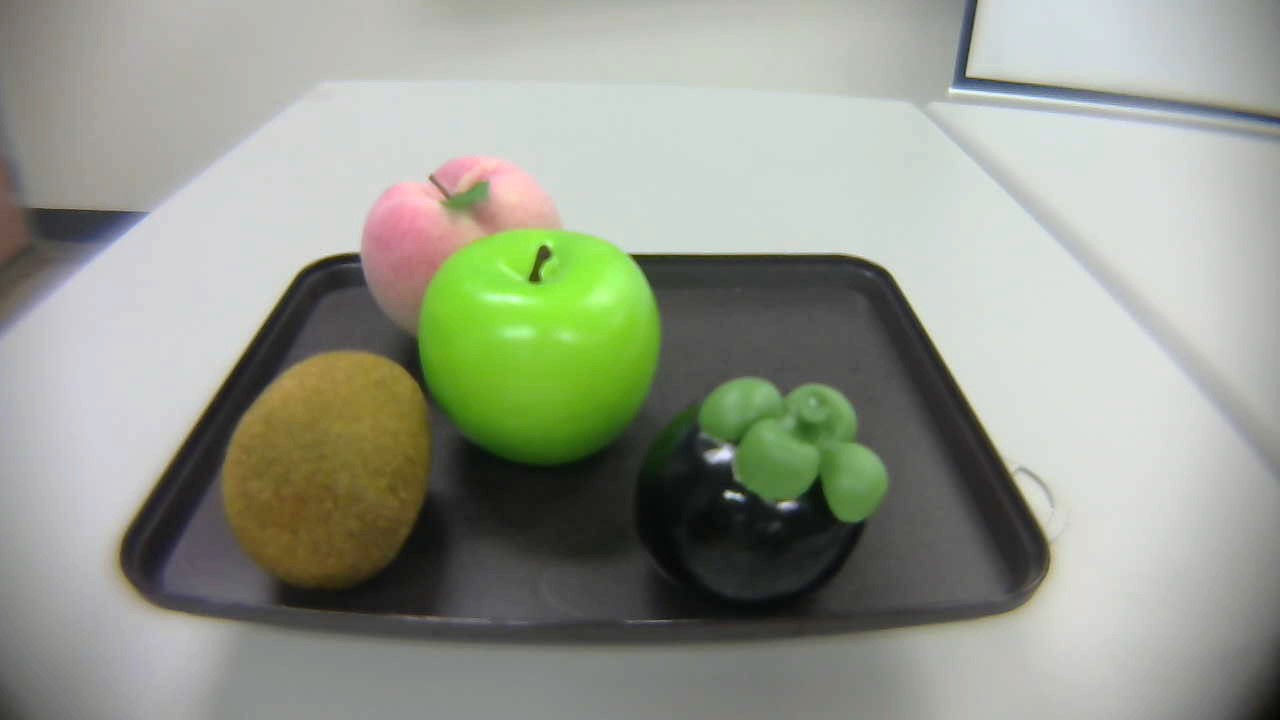green apple: (413, 231, 670, 476)
kiwi fruit: (220, 345, 433, 597)
mangosteen: (635, 375, 892, 620)
peach: (337, 156, 570, 348)
